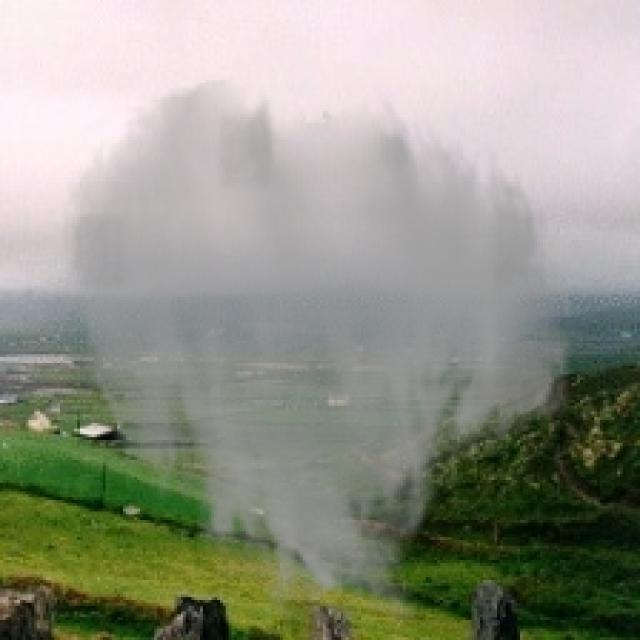smoke: (57, 74, 577, 632)
